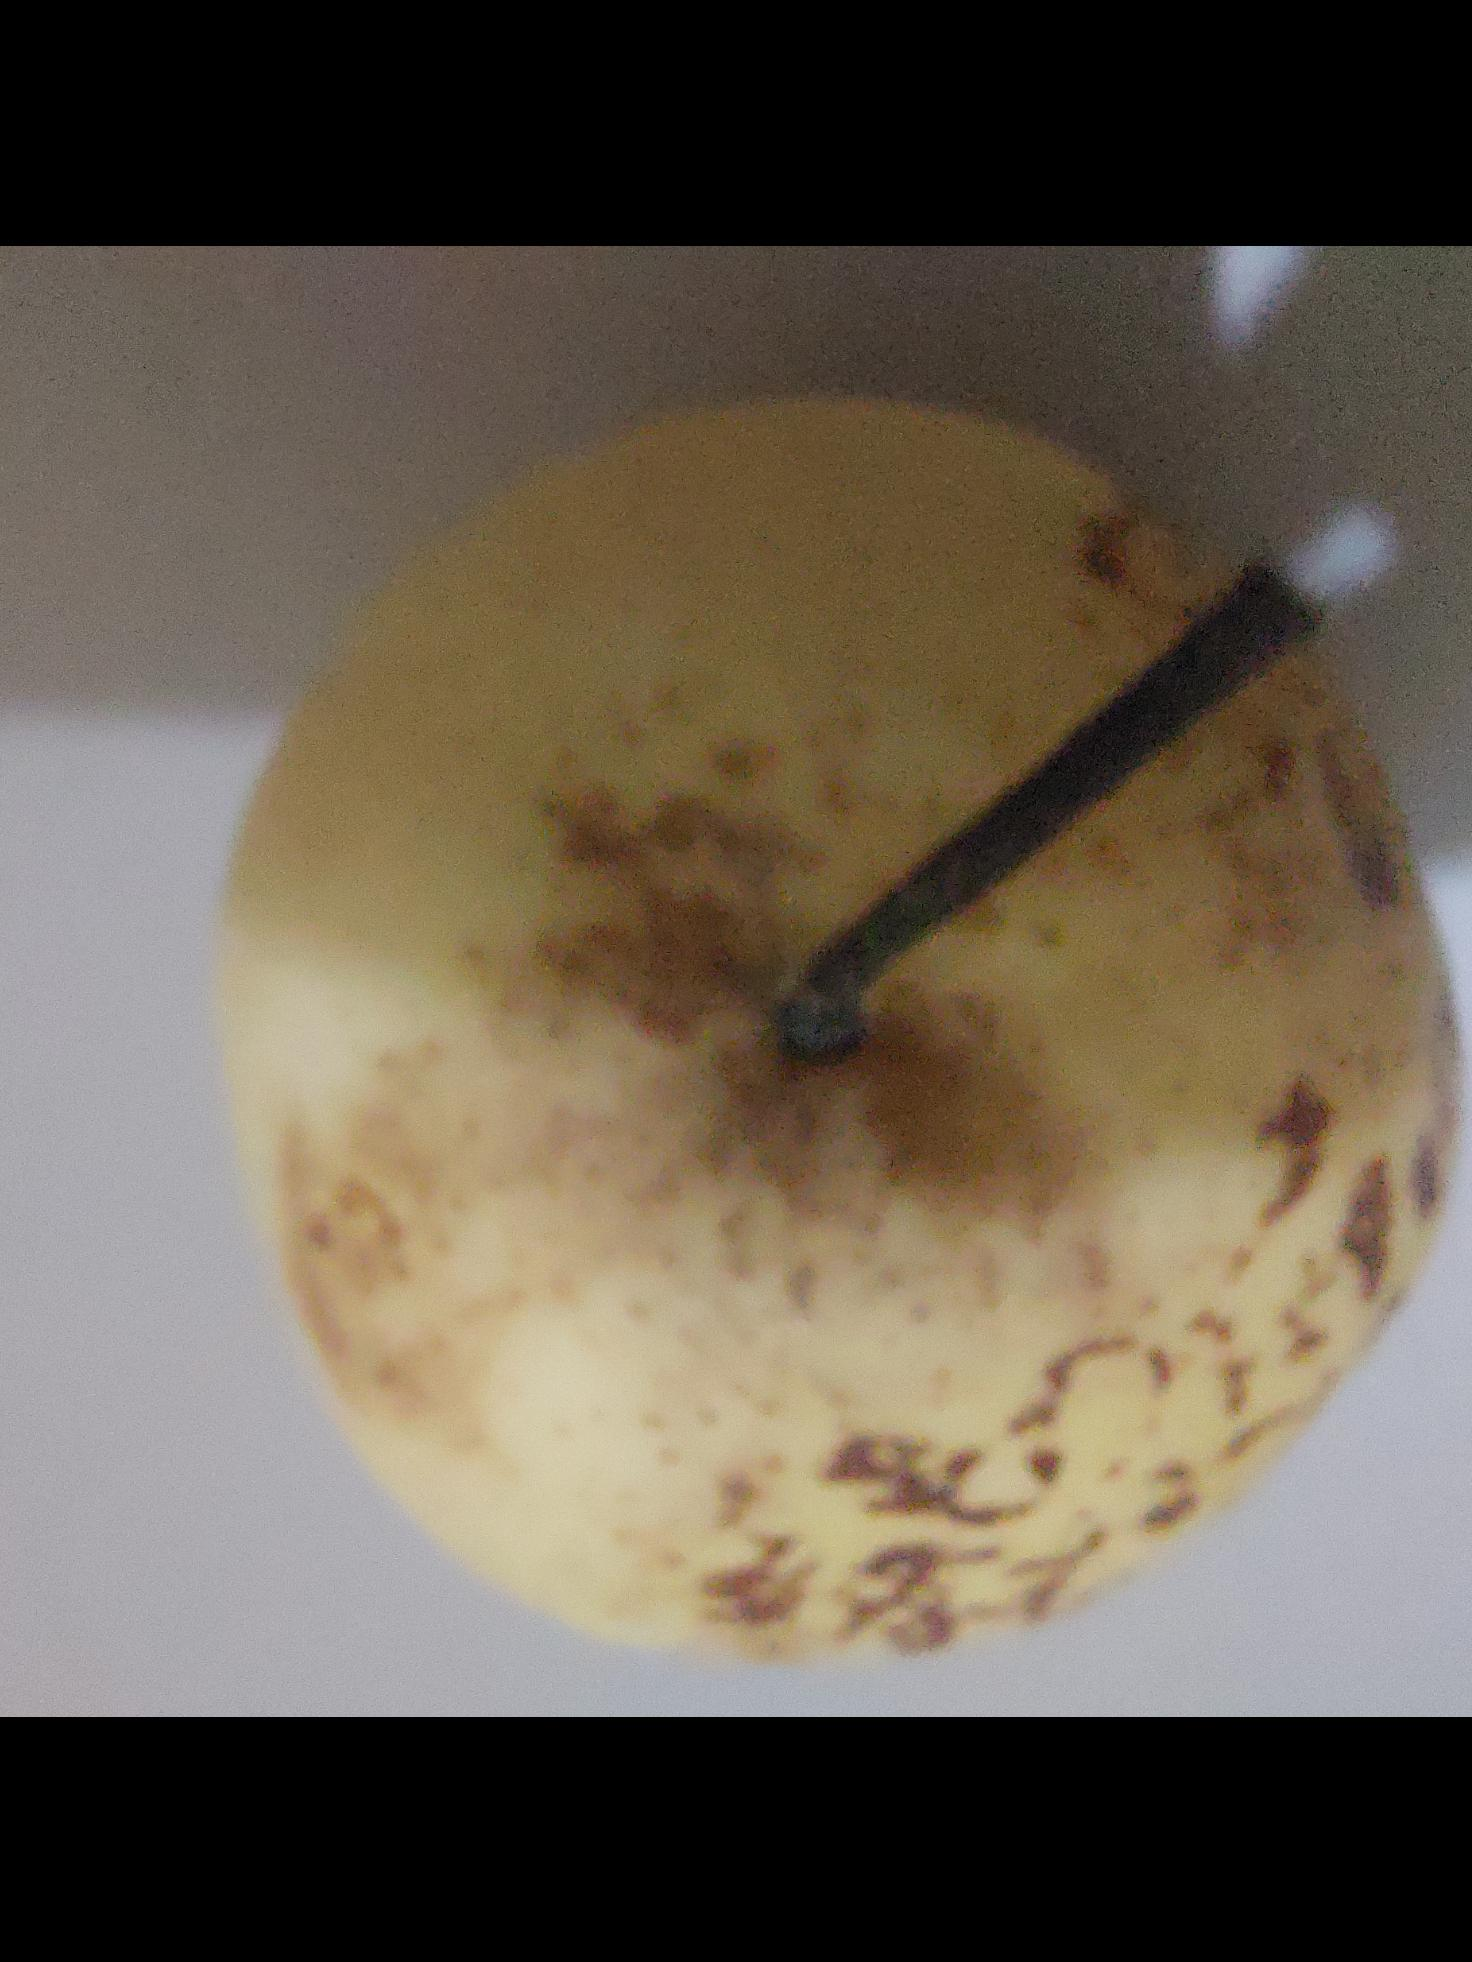Bad Pear: (206, 363, 1472, 1691)
